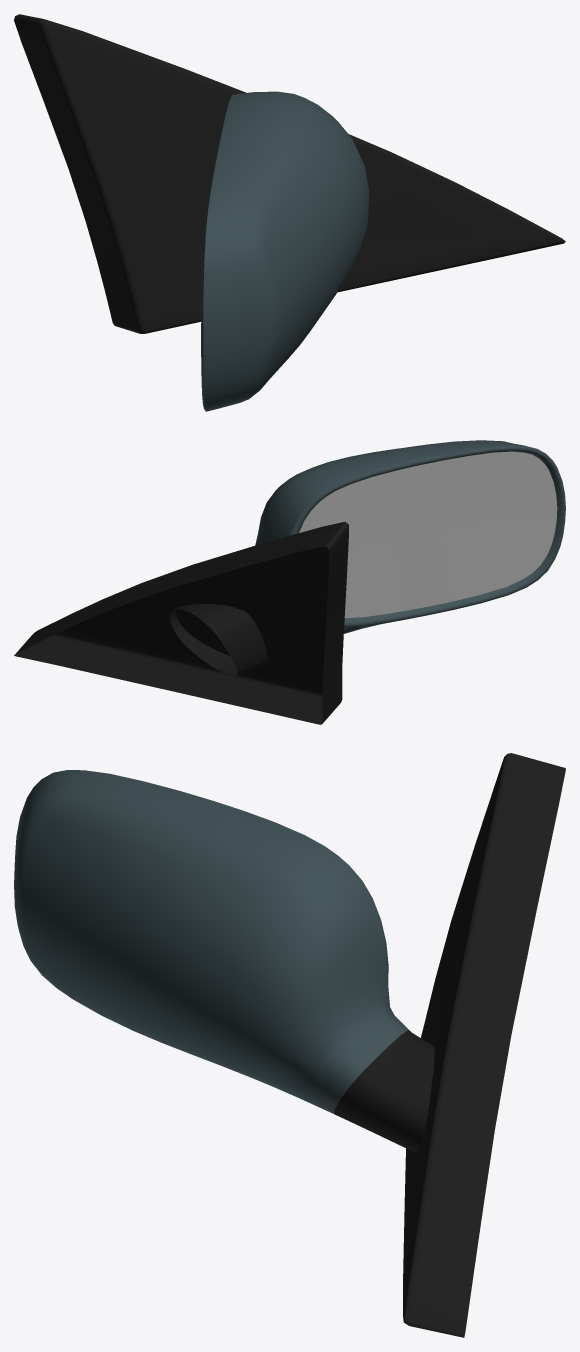
3 views of the same model, one above another, from view 1: azimuth 30°, elevation 25°; view 2: azimuth 150°, elevation 25°; view 3: azimuth 270°, elevation 25° (orthographic). The views are drawn at different scales.
Visible parts, largest first — view 1: P222_15_261I_R_2_D_P222_15_261I_R, P222_15_261I_R_P222_15_261I_R_1_DaS, P222_15_261I_R_P222_15_261I_R_1_DaS_E; view 2: P222_15_261I_R_2_D_P222_15_261I_R, P222_15_261I_R_P222_15_261I_R_3_DTaSI, P222_15_261I_R_P222_15_261I_R_1_DaS, P222_15_261I_R_P222_15_261I_R_1_DaS_E; view 3: P222_15_261I_R_P222_15_261I_R_1_DaS, P222_15_261I_R_2_D_P222_15_261I_R.
Part boxes in pixels (box(x1,y1,x2,y2)): P222_15_261I_R_2_D_P222_15_261I_R: box(14, 14, 565, 333); P222_15_261I_R_P222_15_261I_R_1_DaS: box(203, 91, 369, 411); P222_15_261I_R_P222_15_261I_R_1_DaS_E: box(201, 96, 231, 410); P222_15_261I_R_2_D_P222_15_261I_R: box(14, 522, 348, 724); P222_15_261I_R_P222_15_261I_R_3_DTaSI: box(299, 451, 557, 618); P222_15_261I_R_P222_15_261I_R_1_DaS: box(255, 440, 530, 633); P222_15_261I_R_P222_15_261I_R_1_DaS_E: box(290, 446, 565, 627); P222_15_261I_R_P222_15_261I_R_1_DaS: box(14, 770, 408, 1113); P222_15_261I_R_2_D_P222_15_261I_R: box(334, 753, 565, 1337).
Bounding box in the file's own units: 29.4 × 16.16 × 23.98.
